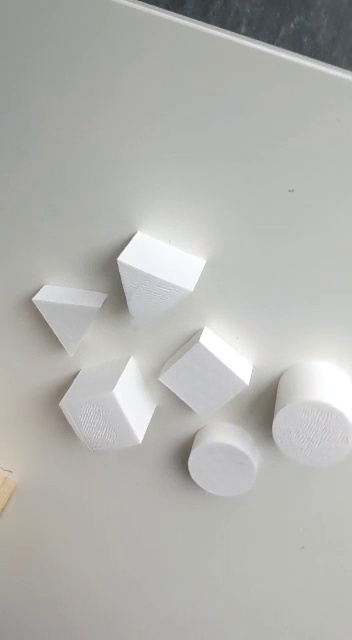Clyinder_short: (188, 421, 259, 496)
Cube: (58, 354, 156, 453)
Cube_short: (151, 325, 255, 419)
Cylinder: (269, 358, 352, 471)
Triangle: (113, 222, 211, 331)
Triangle_short: (28, 281, 109, 352)
